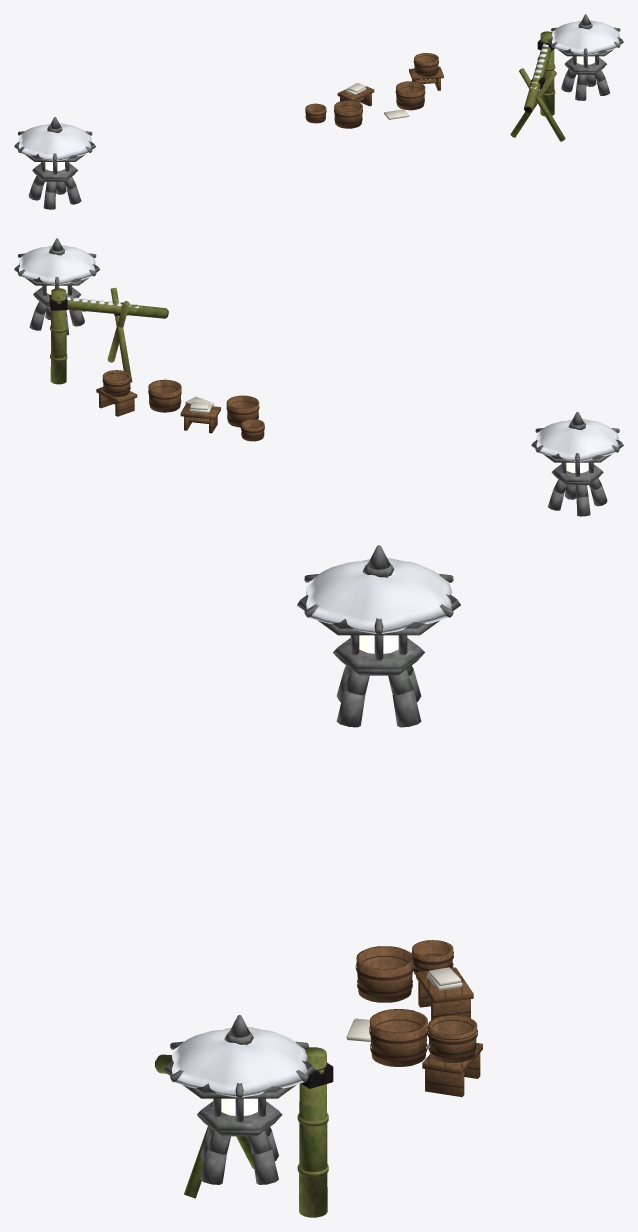
The model's file is onsen_props.glb.
3 views of the same model, one above another, from view 1: azimuth 30°, elevation 25°; view 2: azimuth 150°, elevation 25°; view 3: azimuth 270°, elevation 25° (orthographic). The views are drawn at different scales.
Parts seen in each view (by area): view 1: StoneLanternsToro, StoneLanternSnowCaps, OnsenWoodenBucketsAndStools, BambooWaterSpout, BucketCopperBands, FoldedOnsenTowels; view 2: StoneLanternSnowCaps, StoneLanternsToro, OnsenWoodenBucketsAndStools, BambooWaterSpout, BucketCopperBands; view 3: StoneLanternSnowCaps, StoneLanternsToro, OnsenWoodenBucketsAndStools, BambooWaterSpout, BucketCopperBands, FoldedOnsenTowels, StoneLanternGlowCores.
Part boxes in pixels (x1,y1,x2,y2): StoneLanternsToro: (14, 14, 623, 209); StoneLanternSnowCaps: (18, 20, 619, 161); OnsenWoodenBucketsAndStools: (305, 53, 443, 128); BambooWaterSpout: (510, 31, 565, 141); BucketCopperBands: (305, 60, 438, 125); FoldedOnsenTowels: (345, 83, 409, 119); StoneLanternSnowCaps: (19, 245, 618, 461); StoneLanternsToro: (14, 238, 623, 516); OnsenWoodenBucketsAndStools: (96, 370, 264, 441); BambooWaterSpout: (50, 287, 167, 384); BucketCopperBands: (102, 378, 264, 439); StoneLanternSnowCaps: (172, 558, 451, 1097); StoneLanternsToro: (163, 545, 460, 1184); OnsenWoodenBucketsAndStools: (356, 940, 482, 1096); BambooWaterSpout: (155, 1047, 328, 1217); BucketCopperBands: (355, 951, 477, 1060); FoldedOnsenTowels: (346, 967, 462, 1041); StoneLanternGlowCores: (221, 635, 398, 1115).
Bounding box in the file's own units: 6.57 × 1.21 × 1.65.
8 materials, 8 textured.
